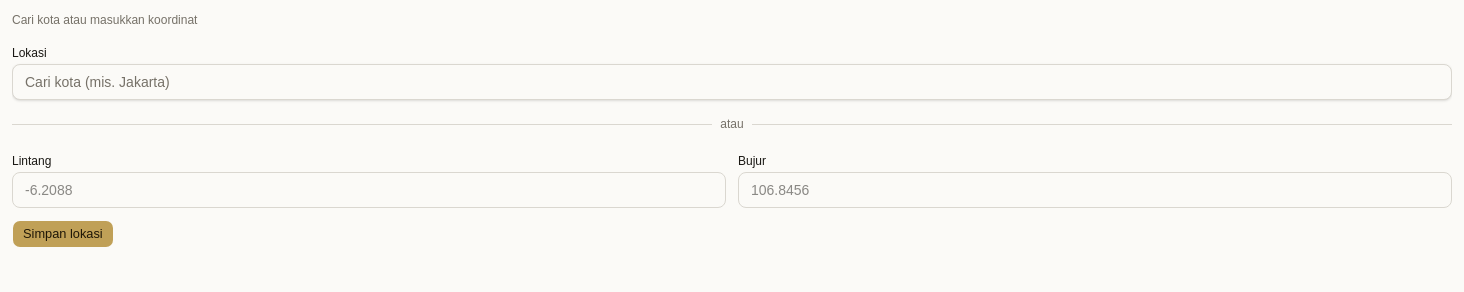
Test case: LocationPicker double-save guard › localizes the invalid-coordinates message instead of hardcoding English
Type "abc" into the field labelled "Lintang" at [369, 190], box [12,172,726,208]
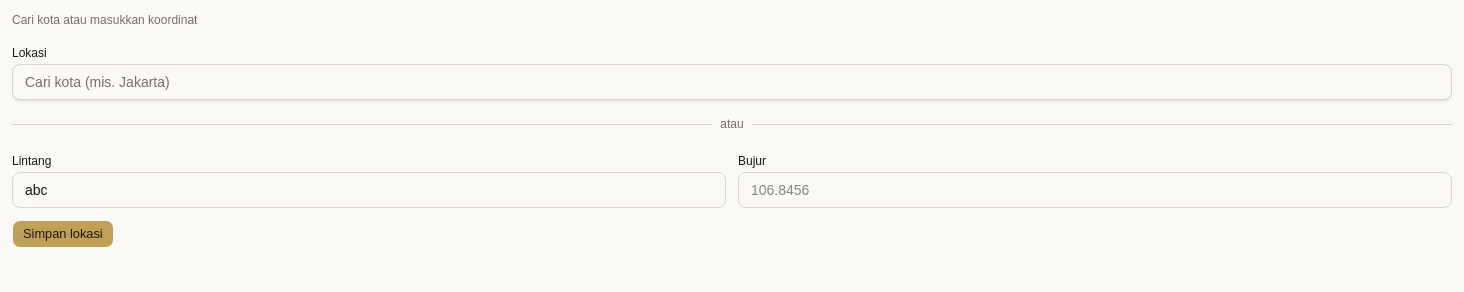
Click the button "Simpan lokasi" at [63, 234], box [12,220,114,248]
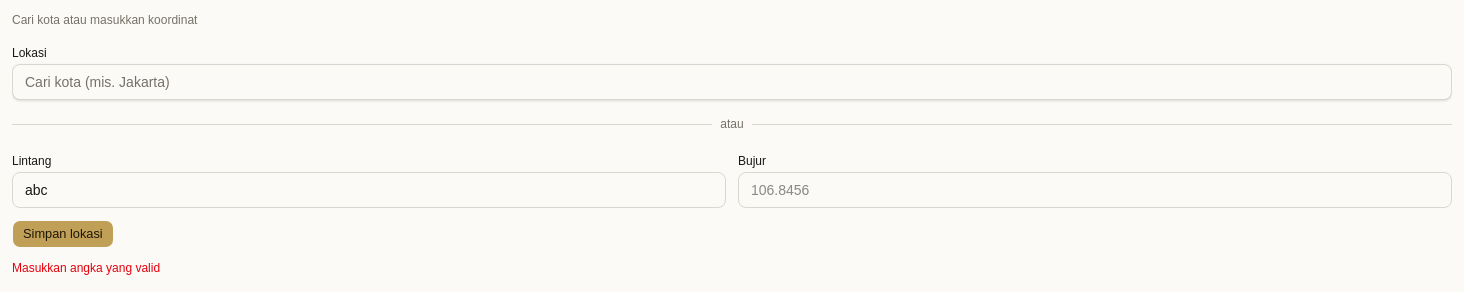
Now the message reads "Masukkan angka yang valid", box [12,261,160,275]
